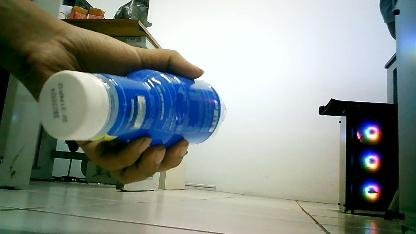Plastic Bottle: (25, 53, 235, 181)
